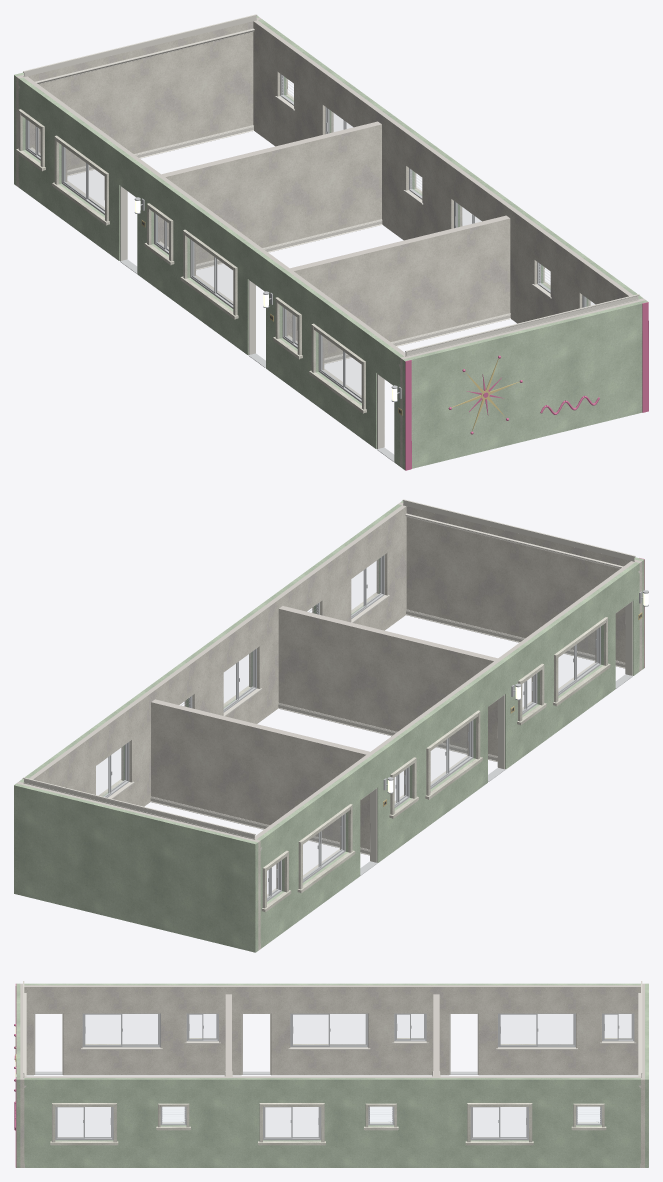
File: envelope_e_upper.glb
3 renders of one model, top to bottom at view 1: azimuth 30°, elevation 25°; view 2: azimuth 150°, elevation 25°; view 3: azimuth 270°, elevation 25°, orthographic. The views are drawn at different scales.
Parts seen in each view (by area): view 1: envelope_e_upper_plaster, envelope_e_upper_stucco, molduras, envelope_e_upper_stucco_w, envelope_e_upper_glass, envelope_e_upper_alu, envelope_e_upper_trim, envelope_e_upper_accent; view 2: envelope_e_upper_plaster, envelope_e_upper_stucco, molduras, envelope_e_upper_glass, envelope_e_upper_stucco_w, envelope_e_upper_alu, envelope_e_upper_trim; view 3: envelope_e_upper_stucco, envelope_e_upper_plaster, envelope_e_upper_glass, envelope_e_upper_alu, envelope_e_upper_stucco_w, envelope_e_upper_trim, envelope_e_upper_jal, molduras, envelope_e_upper_accent.
Part boxes in pixels (x1=…): envelope_e_upper_plaster: x1=16, y1=17, x2=645, y2=468; envelope_e_upper_stucco: x1=14, y1=16, x2=647, y2=469; molduras: x1=18, y1=14, x2=639, y2=466; envelope_e_upper_stucco_w: x1=16, y1=78, x2=590, y2=413; envelope_e_upper_glass: x1=28, y1=109, x2=593, y2=396; envelope_e_upper_alu: x1=25, y1=74, x2=586, y2=461; envelope_e_upper_trim: x1=30, y1=96, x2=551, y2=448; envelope_e_upper_accent: x1=405, y1=302, x2=648, y2=470; envelope_e_upper_plaster: x1=16, y1=502, x2=642, y2=950; envelope_e_upper_stucco: x1=14, y1=501, x2=644, y2=952; molduras: x1=22, y1=499, x2=639, y2=948; envelope_e_upper_glass: x1=96, y1=558, x2=596, y2=896; envelope_e_upper_stucco_w: x1=99, y1=559, x2=610, y2=912; envelope_e_upper_alu: x1=103, y1=555, x2=632, y2=901; envelope_e_upper_trim: x1=108, y1=595, x2=632, y2=896; envelope_e_upper_stucco: x1=16, y1=983, x2=648, y2=1167; envelope_e_upper_plaster: x1=20, y1=983, x2=644, y2=1167; envelope_e_upper_glass: x1=58, y1=1014, x2=630, y2=1136; envelope_e_upper_alu: x1=35, y1=1013, x2=634, y2=1140; envelope_e_upper_stucco_w: x1=50, y1=1038, x2=631, y2=1145; envelope_e_upper_trim: x1=34, y1=1013, x2=636, y2=1137; envelope_e_upper_jal: x1=162, y1=1107, x2=599, y2=1123; molduras: x1=23, y1=981, x2=642, y2=1167; envelope_e_upper_accent: x1=14, y1=984, x2=16, y2=1167.
Size of the model in its own units: 7.35 by 3.15 by 19.57.
14 materials, 3 textured.
